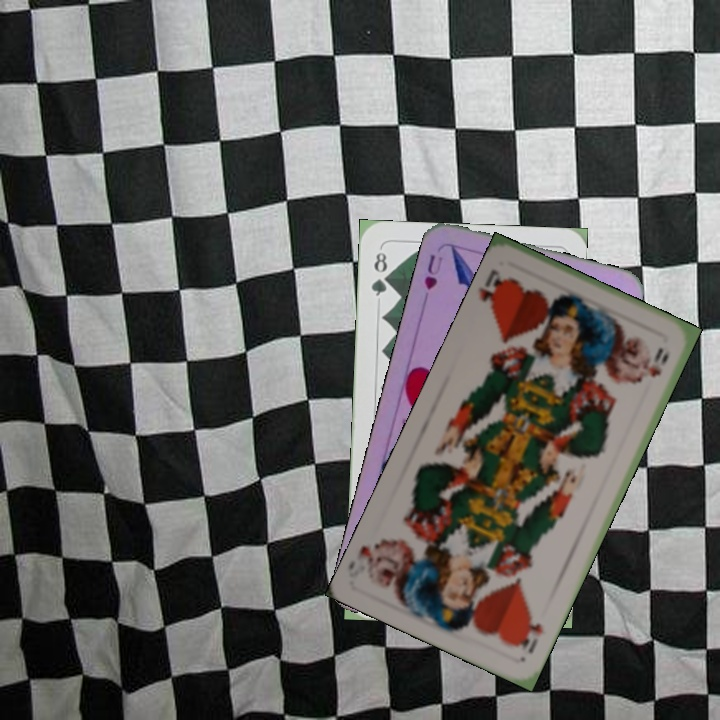G8: (367, 248, 391, 299)
HO: (475, 265, 512, 316), (514, 619, 549, 656)
HU: (420, 250, 445, 293)
